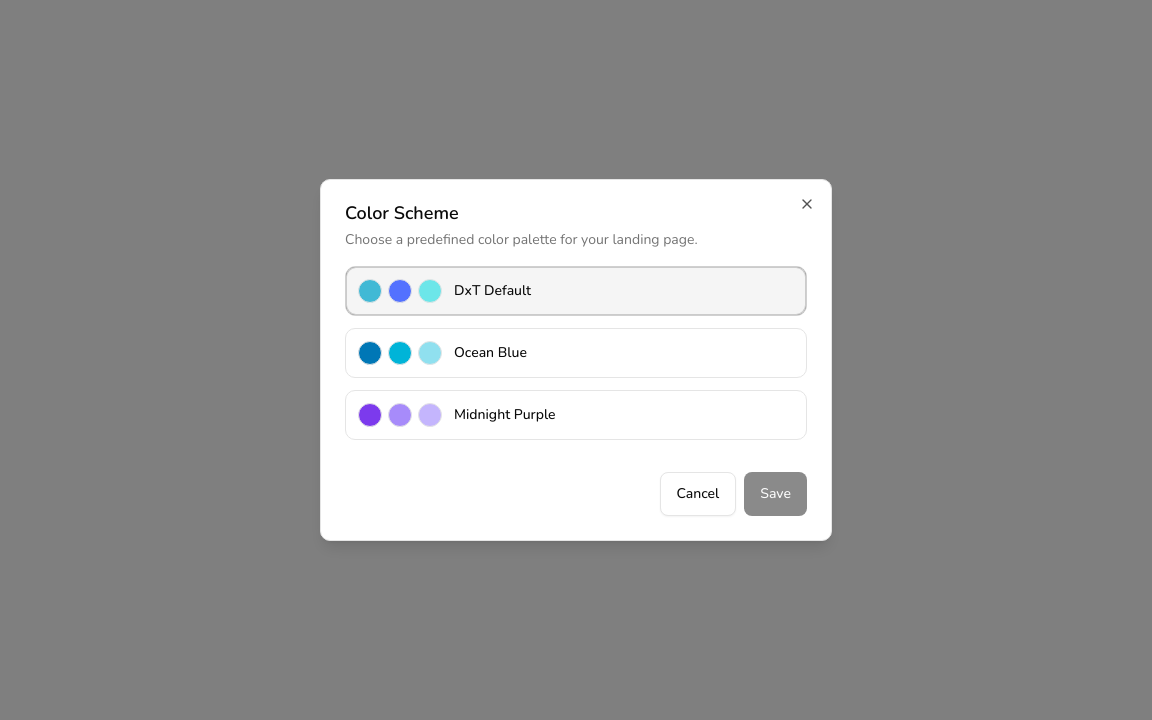
ColorSchemeEditor › save button is enabled after selecting different scheme
This screenshot has width=1152, height=720.
Click the button with test id "scheme-option-ocean-blue".
click(490, 352)  # box [345,328,807,378]
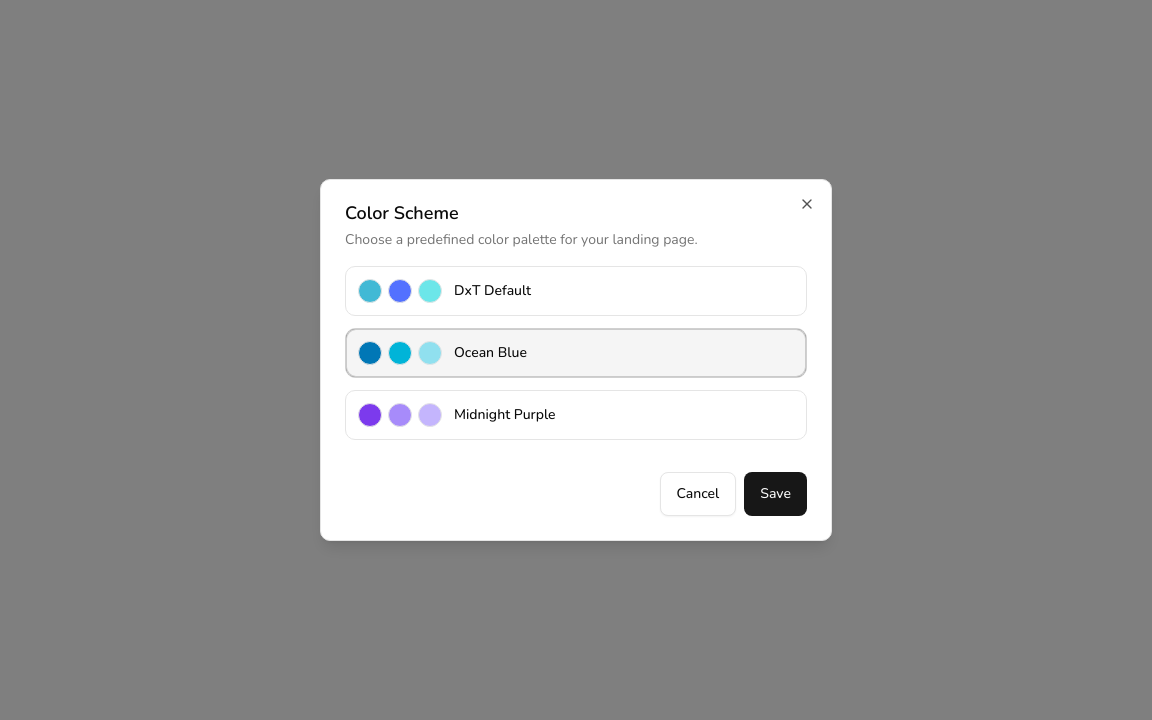
Expected: the button with test id "save-color-scheme-button" is enabled, [744,472,807,516]
